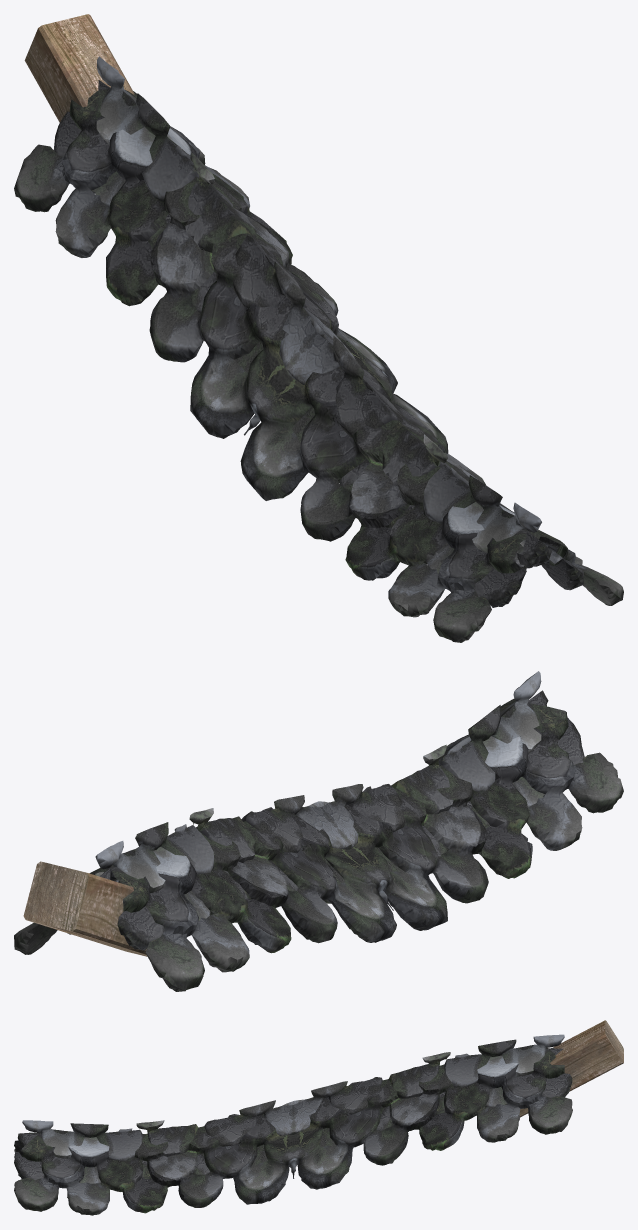
The model's file is SM_Roof_Cap_05.fbx.
3 views of the same model, one above another, from view 1: azimuth 30°, elevation 25°; view 2: azimuth 150°, elevation 25°; view 3: azimuth 270°, elevation 25° (orthographic). The views are drawn at different scales.
Parts seen in each view (by area): view 1: SM_Roof_Cap_05_LOD0; view 2: SM_Roof_Cap_05_LOD0; view 3: SM_Roof_Cap_05_LOD0.
Boxes of the visible parts, x1,y1,x2,y2 form: SM_Roof_Cap_05_LOD0: (14,14,623,642); SM_Roof_Cap_05_LOD0: (14,671,623,991); SM_Roof_Cap_05_LOD0: (14,1020,623,1215).
Size of the model in its own units: 96.94 by 430 by 129.
